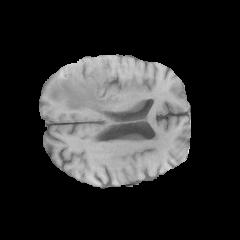glioma: (46, 56, 119, 111)
